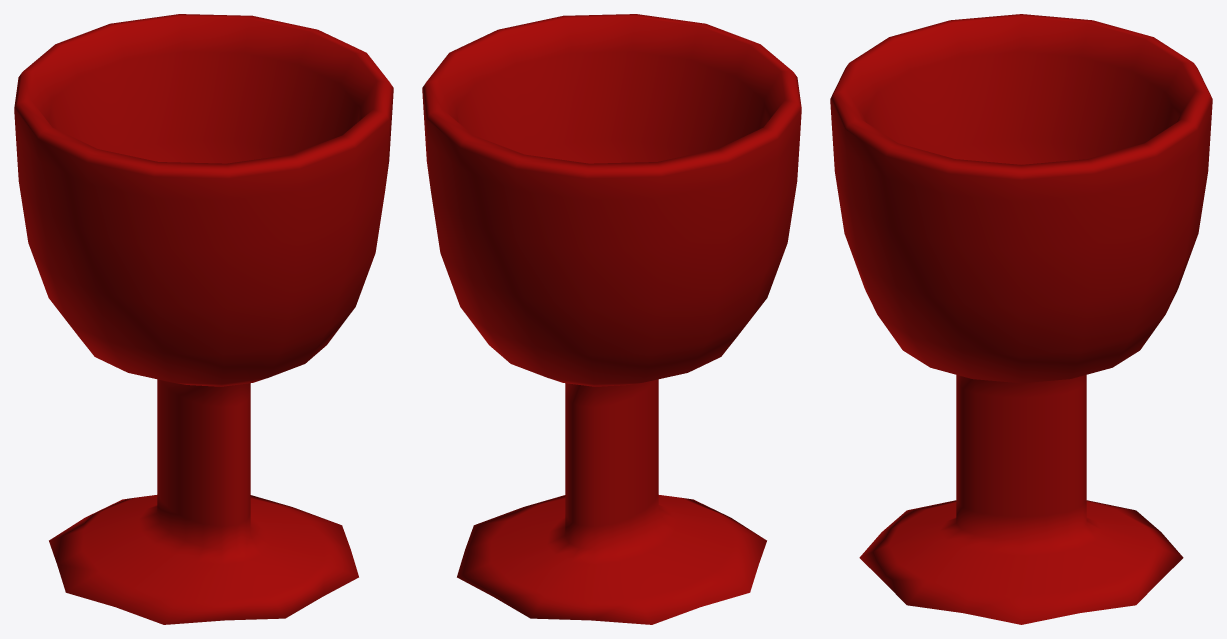
The model's file is God_Tables_Goblet.fbx.
3 renders of one model, left to right at view 1: azimuth 30°, elevation 25°; view 2: azimuth 150°, elevation 25°; view 3: azimuth 270°, elevation 25°, orthographic.
Parts seen in each view (by area): view 1: God_Tables_Goblet; view 2: God_Tables_Goblet; view 3: God_Tables_Goblet.
Boxes of the visible parts, x1=… form: God_Tables_Goblet: x1=14, y1=14, x2=393, y2=624; God_Tables_Goblet: x1=422, y1=14, x2=801, y2=624; God_Tables_Goblet: x1=830, y1=14, x2=1212, y2=624.
Size of the model in its own units: 0.0601 by 0.0816 by 0.0601.
